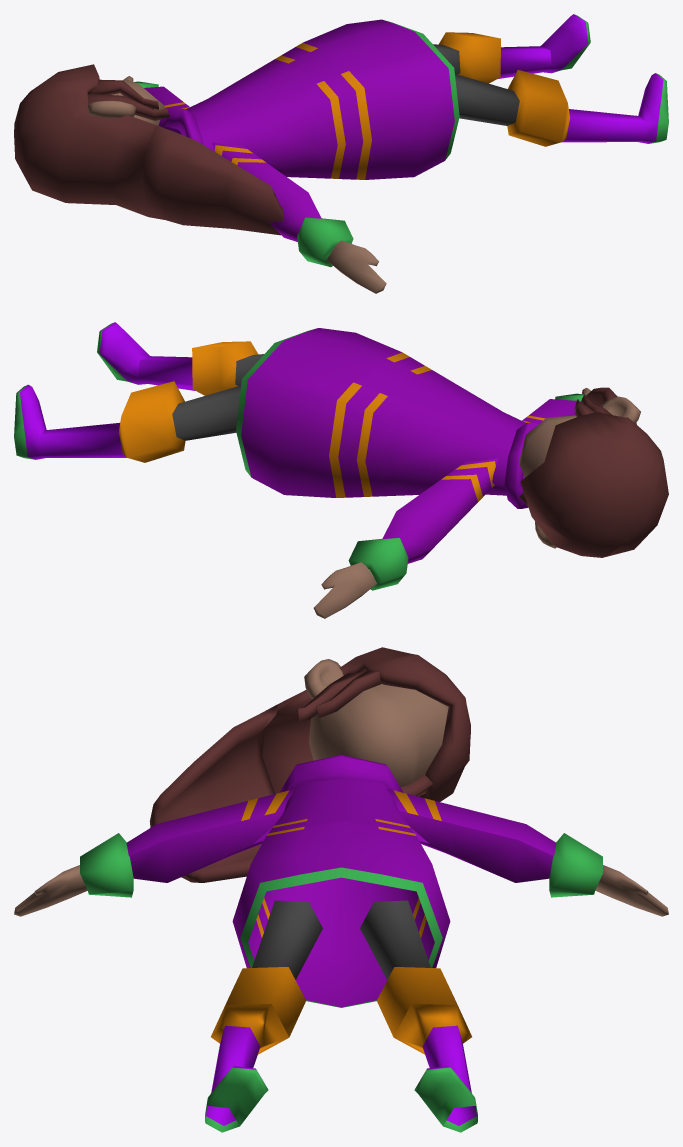
Rendered from Doll2.fbx.
The picture shows the model from 3 angles, top to bottom: view 1: azimuth 30°, elevation 25°; view 2: azimuth 150°, elevation 25°; view 3: azimuth 270°, elevation 25°; orthographic projection. The views are drawn at different scales.
Visible parts, largest first — view 1: Body, Hair, Legs, Arms, Ears, Head; view 2: Body, Legs, Hair, Arms, Head, Ears; view 3: Body, Legs, Arms, Hair, Head, Ears.
Part boxes in pixels (<box>): Body: <box>158,19,459,179</box>; Hair: <box>14,64,283,235</box>; Legs: <box>433,14,668,146</box>; Arms: <box>123,76,386,293</box>; Ears: <box>88,100,135,117</box>; Head: <box>111,79,164,125</box>; Body: <box>236,328,539,508</box>; Legs: <box>14,322,263,462</box>; Hair: <box>519,387,668,557</box>; Arms: <box>313,388,590,618</box>; Head: <box>519,415,576,477</box>; Ears: <box>535,396,640,548</box>; Body: <box>232,754,450,1007</box>; Legs: <box>205,900,477,1132</box>; Arms: <box>14,788,668,916</box>; Hair: <box>149,647,470,882</box>; Head: <box>309,684,448,786</box>; Ears: <box>304,659,343,699</box>.
Size of the model in its own units: 580 by 133 by 463.
